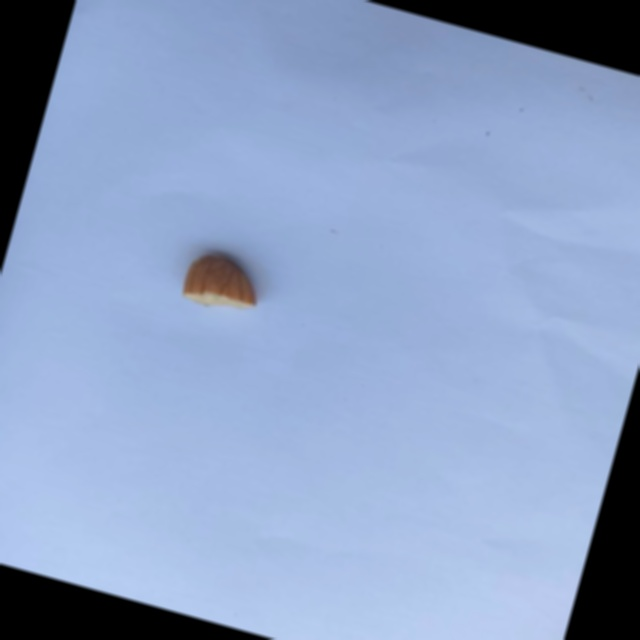grade4: (172, 240, 276, 325)
